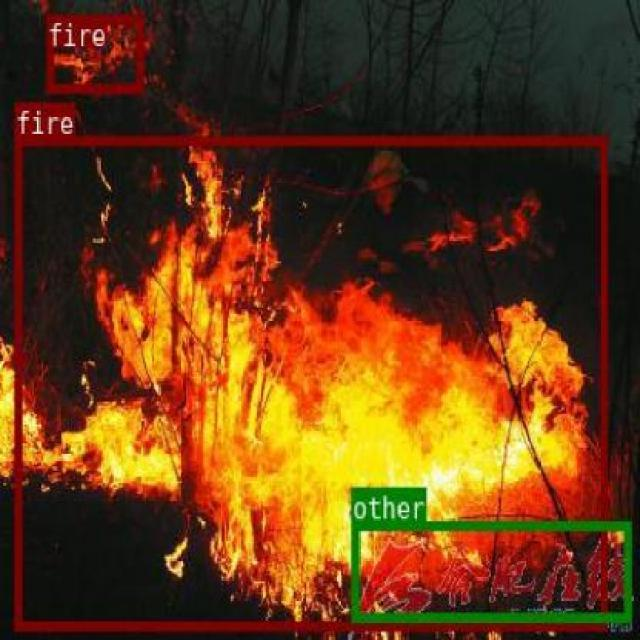Fire: (14, 136, 606, 629), (46, 14, 142, 91)
